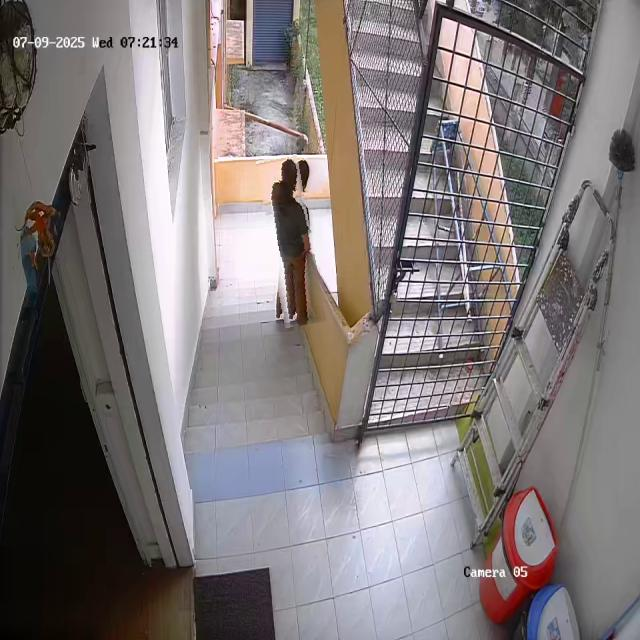person: (263, 155, 319, 327)
